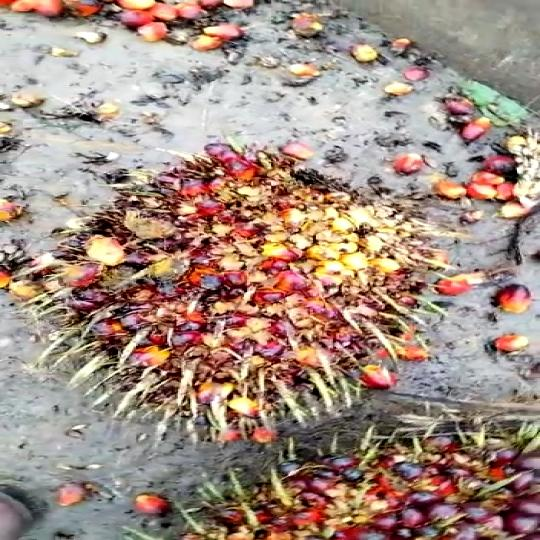terlalu masak: (29, 137, 429, 453)
